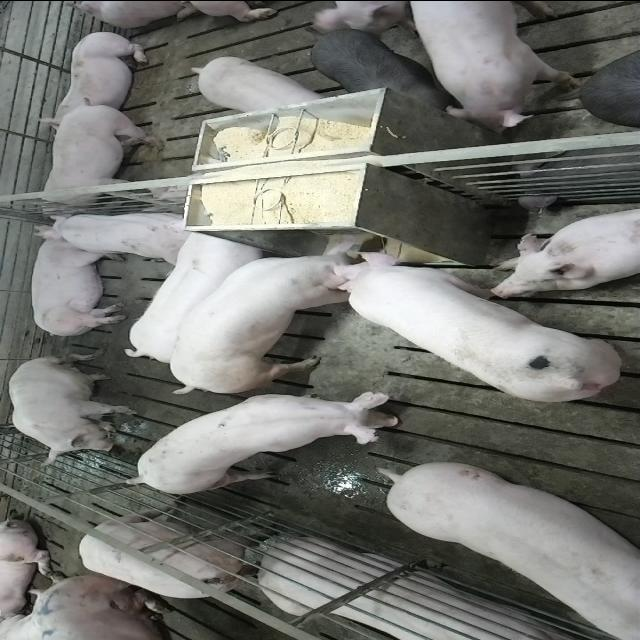Feeding: (328, 240, 626, 404), (168, 226, 382, 390)
Lateral_lying: (28, 224, 128, 338)
Sitting: (6, 354, 140, 468)
Standing: (383, 464, 640, 640), (128, 392, 410, 497), (401, 1, 579, 131), (74, 505, 278, 606), (121, 228, 262, 364), (28, 101, 166, 213), (304, 29, 456, 109), (192, 51, 332, 112)
Sternal_lying: (256, 540, 606, 640), (487, 203, 640, 294), (34, 28, 154, 125), (40, 206, 198, 262)
